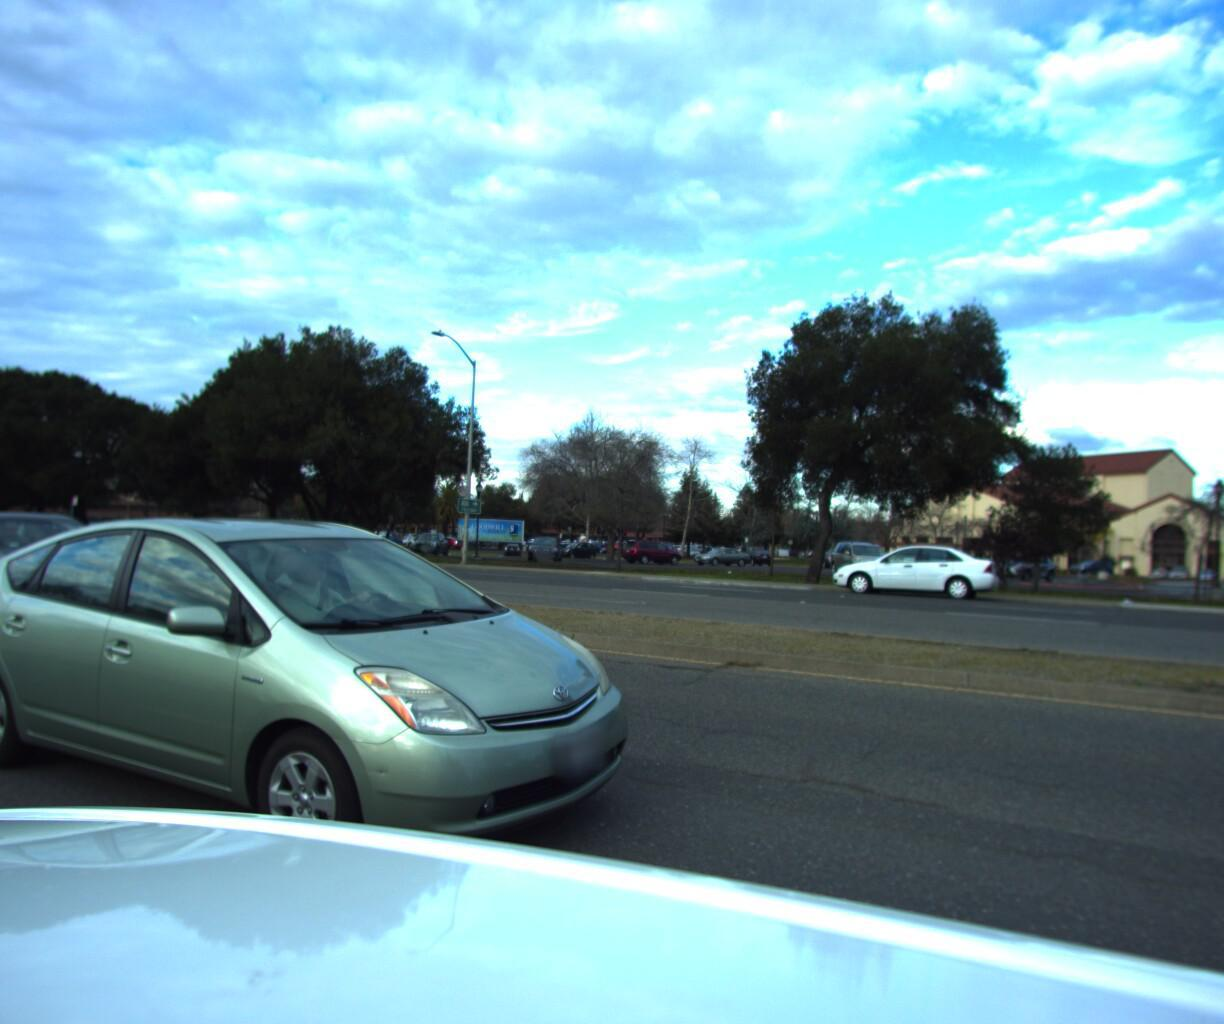car: (0, 497, 690, 933), (0, 505, 167, 625), (822, 534, 1004, 602), (0, 506, 13, 544)
